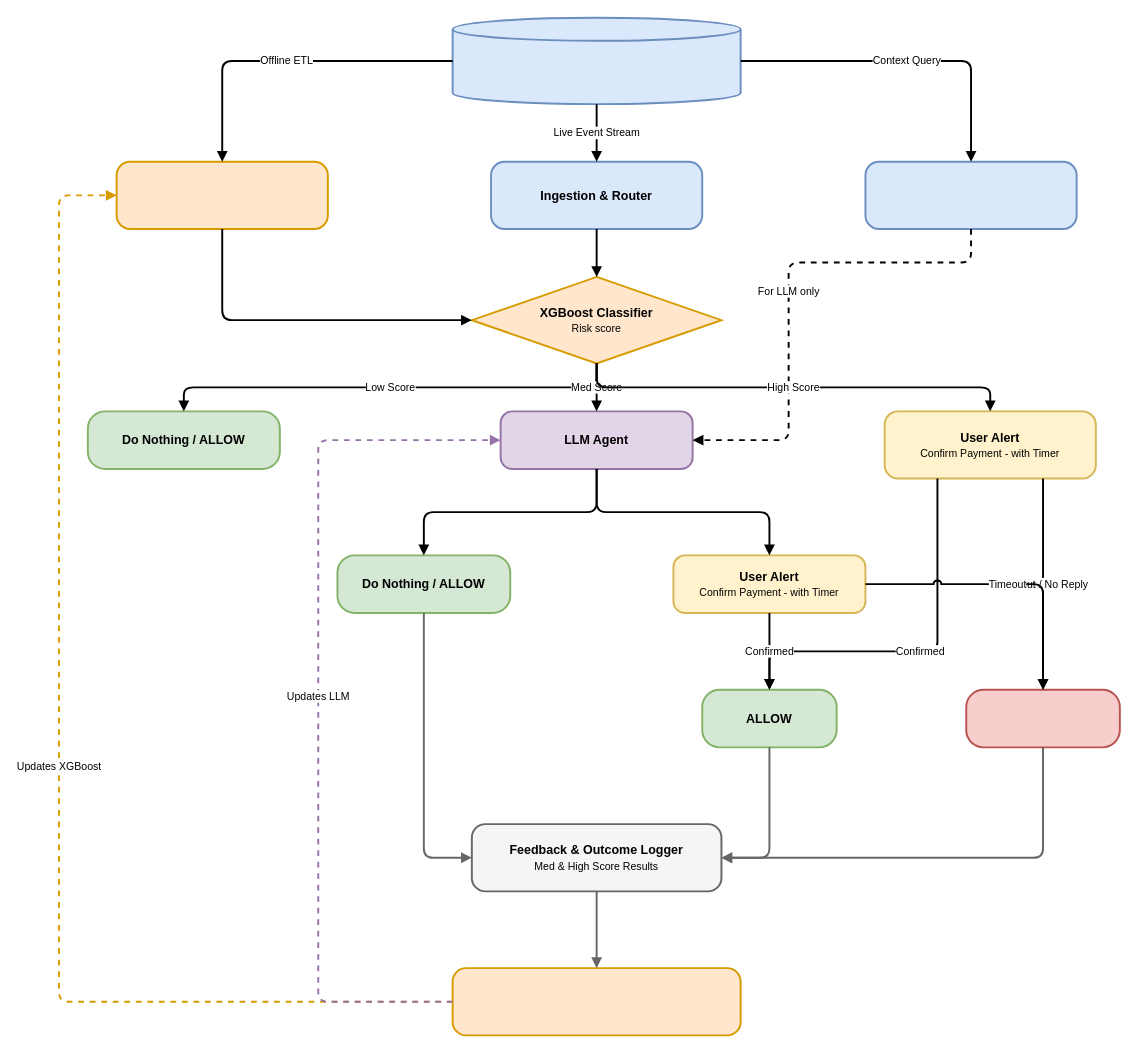
This 1137x1052 diagram has some shape labels left out. Here are the shapes that lost their labels. From the top down, the box of each, then its label:
(451, 16, 741, 105): PostgreSQL Database Historical & Live Transactions + User Context
(115, 160, 328, 229): XGBoost Training
(864, 160, 1077, 229): User History & Context
(965, 688, 1120, 748): CANCEL TX
(451, 967, 741, 1036): Offline Retraining / RFL Loop
